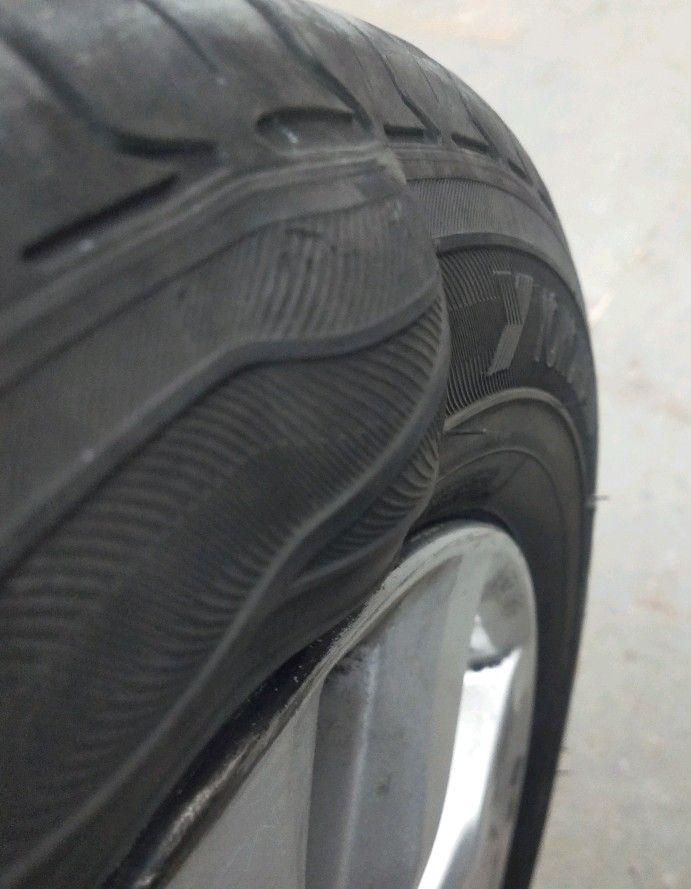CBU: (237, 138, 456, 633)
